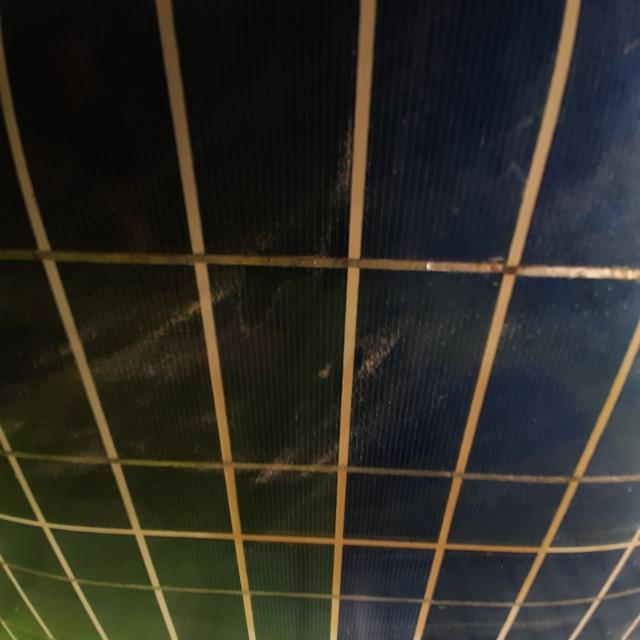dust-solar-panel: (0, 0, 640, 638)
